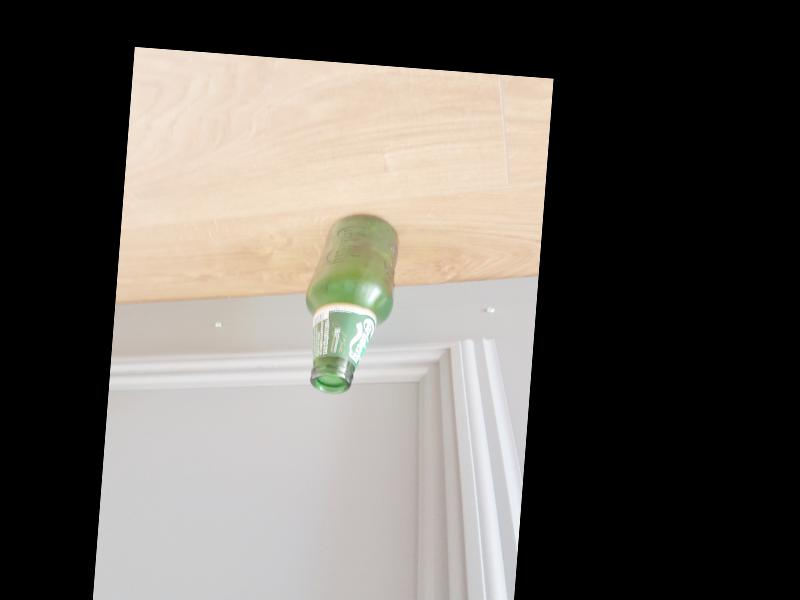Beer: (298, 209, 401, 397)
